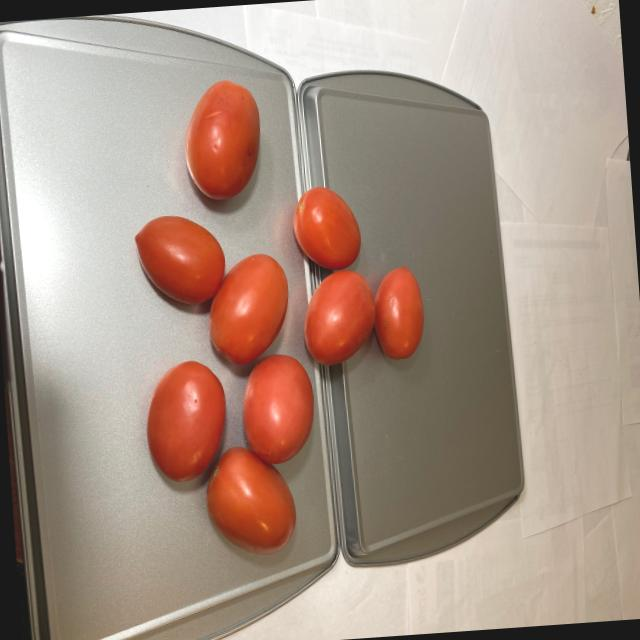tomato: (123, 61, 446, 564), (134, 188, 380, 540)
